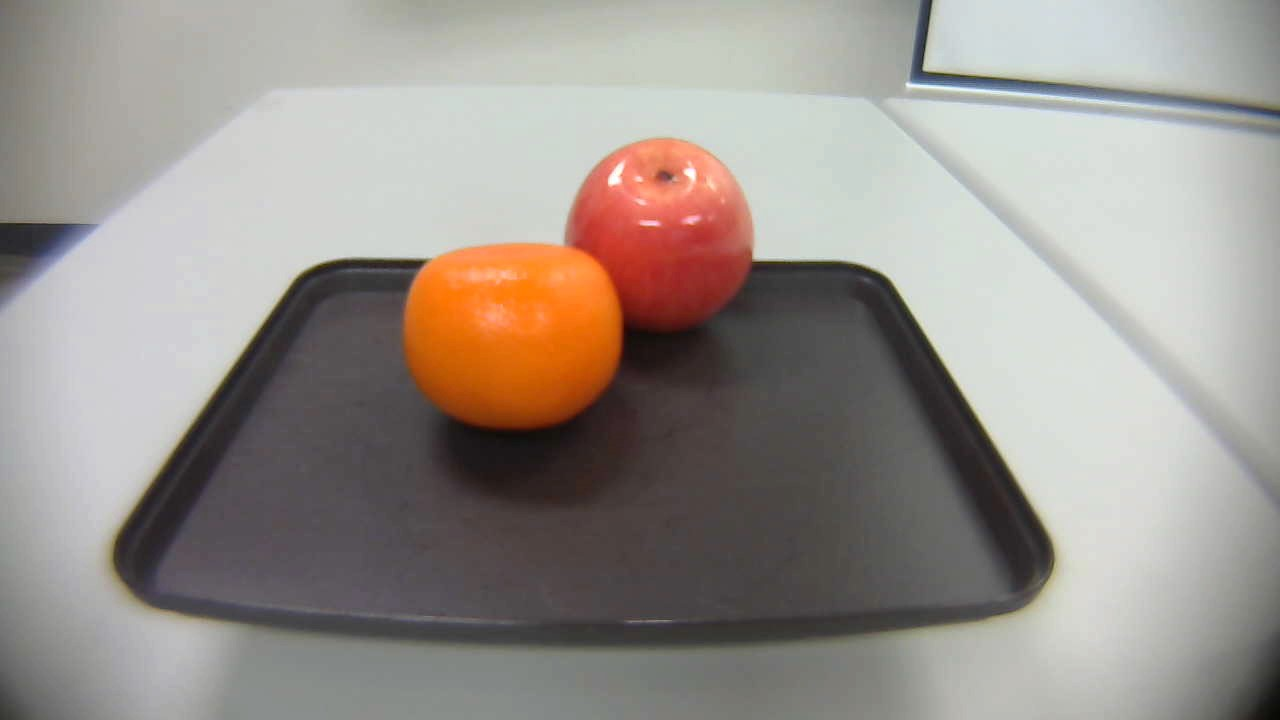orange: (407, 238, 622, 435)
red apple: (554, 137, 757, 340)
